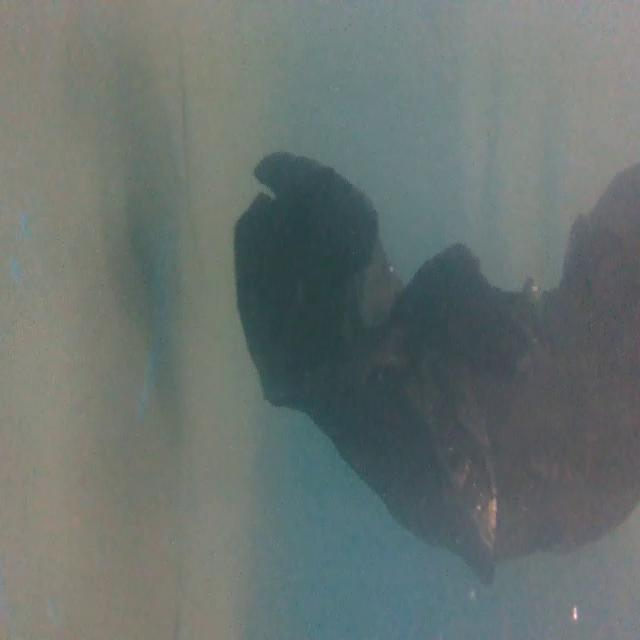plastic bags: (229, 152, 640, 572)
